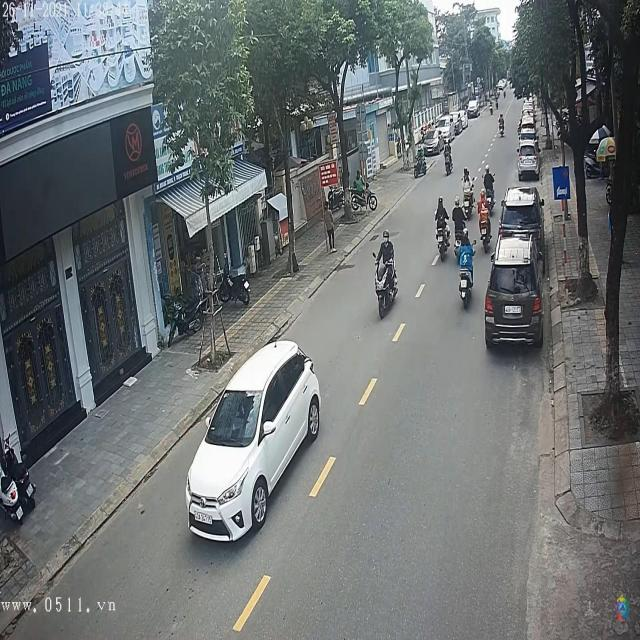car: (184, 340, 324, 546), (485, 244, 543, 350), (500, 187, 545, 242), (517, 146, 541, 181), (518, 126, 536, 142), (467, 98, 481, 118)
motorcycle: (373, 251, 400, 314), (460, 267, 474, 308), (436, 222, 451, 258), (478, 217, 494, 249)
